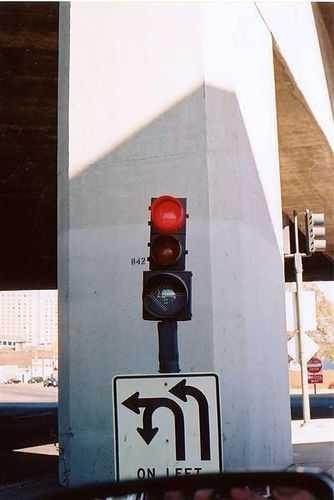red: (145, 191, 190, 319), (145, 191, 189, 231)
